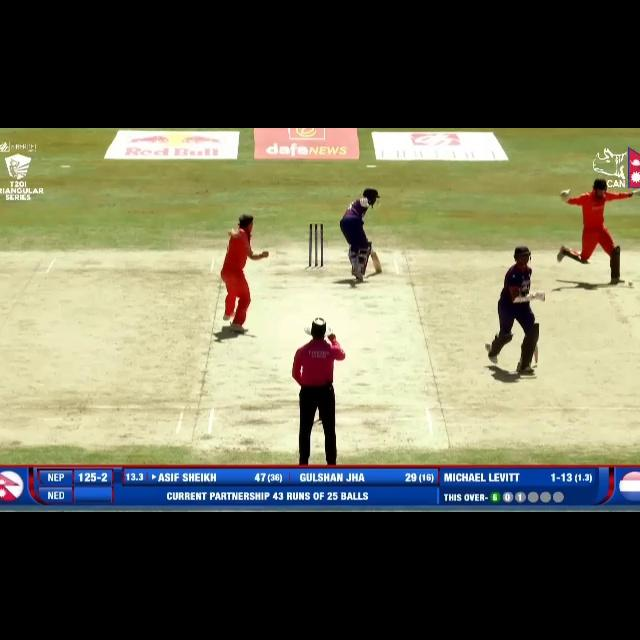umpire: (282, 312, 351, 469)
